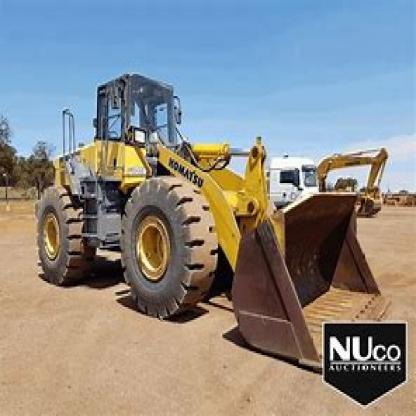bull_dozer/loader/grader: (31, 65, 393, 375)
